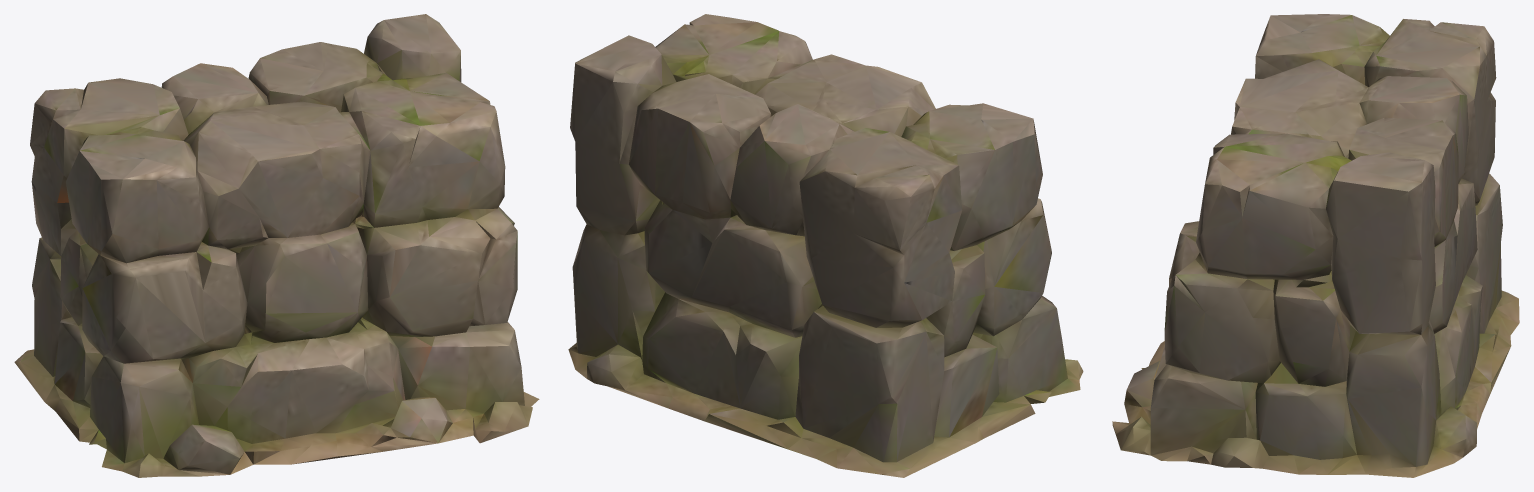
Rendered from muro_ruina_1500.glb.
The picture shows the model from 3 angles, left to right: view 1: azimuth 30°, elevation 25°; view 2: azimuth 150°, elevation 25°; view 3: azimuth 270°, elevation 25°; orthographic projection.
Parts seen in each view (by area): view 1: muro_ruina_malla; view 2: muro_ruina_malla; view 3: muro_ruina_malla.
Part boxes in pixels (left/top/right/bottom): muro_ruina_malla: left=14, top=14, right=539, bottom=477; muro_ruina_malla: left=568, top=14, right=1083, bottom=477; muro_ruina_malla: left=1112, top=14, right=1519, bottom=477.
Bounding box in the file's own units: 0.3987 × 0.265 × 0.3312.
Materials: 1 (1 with a texture image).
